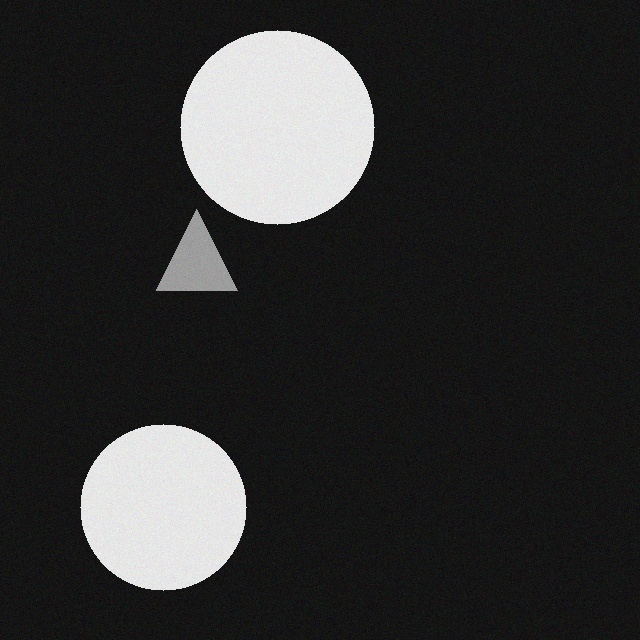circle: (171, 33, 365, 227), (71, 427, 237, 593)
triangle: (147, 212, 228, 293)
